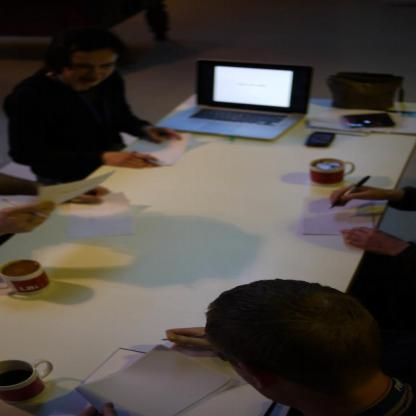board: (154, 58, 314, 141)
